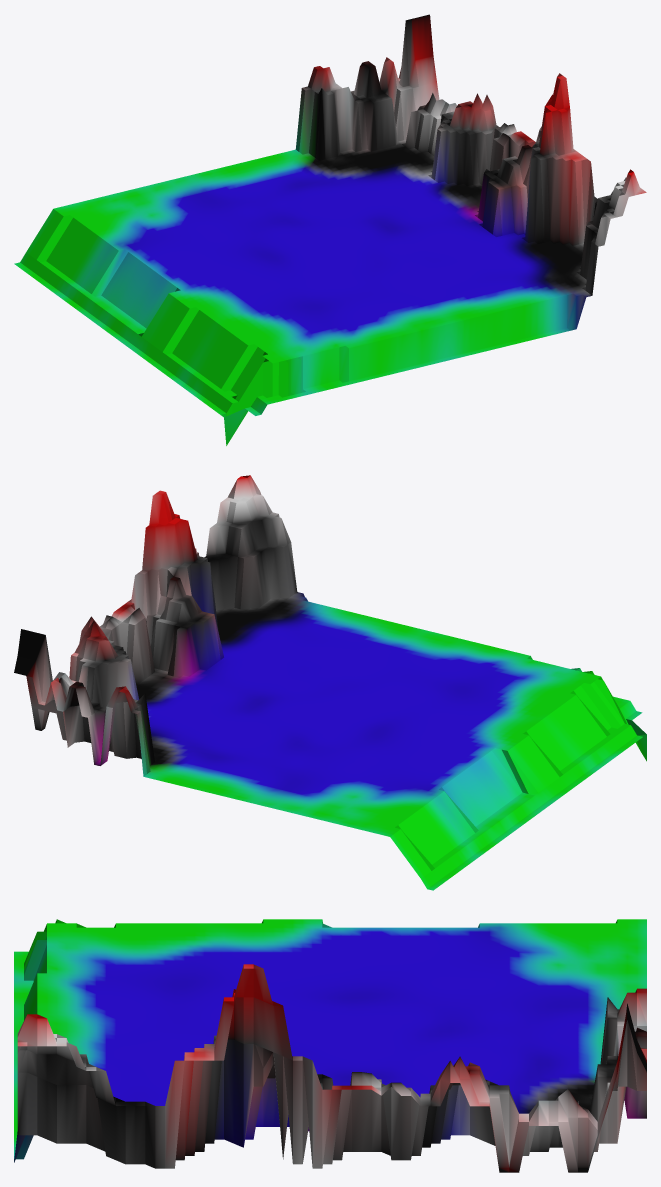
The model's file is island.fbx.
3 views of the same model, one above another, from view 1: azimuth 30°, elevation 25°; view 2: azimuth 150°, elevation 25°; view 3: azimuth 270°, elevation 25° (orthographic). The views are drawn at different scales.
Visible parts, largest first — view 1: island; view 2: island; view 3: island.
Part boxes in pixels (x1,y1,x2,y2): island: [14, 14, 646, 445]; island: [14, 475, 646, 890]; island: [14, 919, 646, 1172].
Size of the model in its own units: 10585 by 5362 by 10057.
